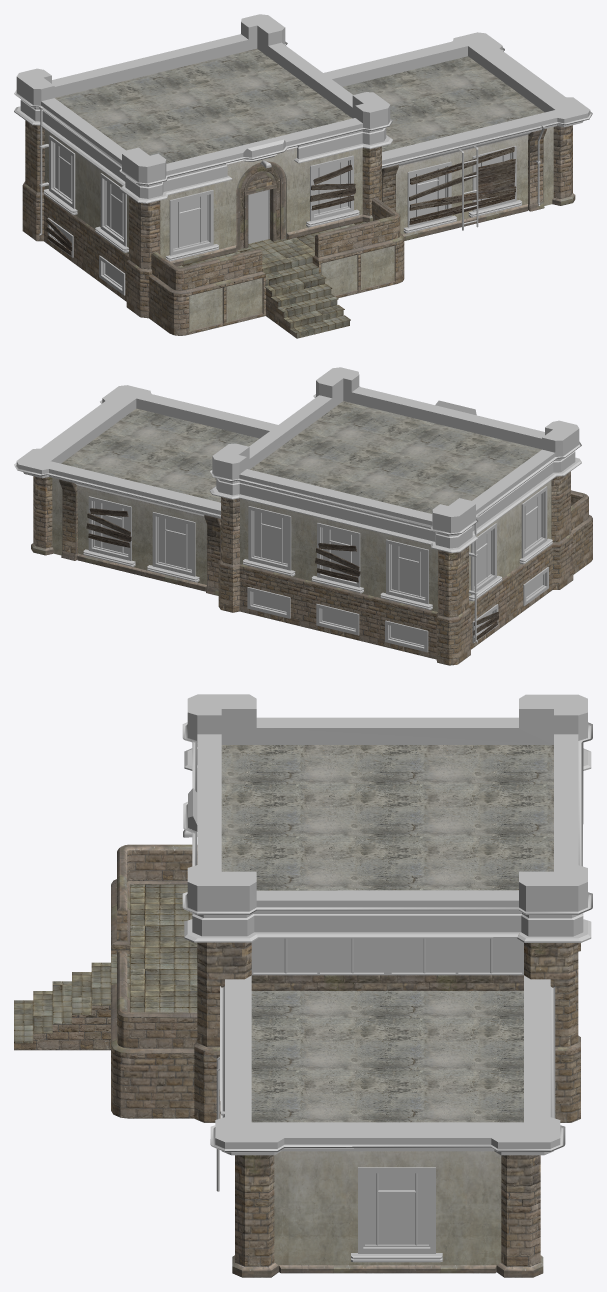
The model's file is Build8.fbx.
The picture shows the model from 3 angles, top to bottom: view 1: azimuth 30°, elevation 25°; view 2: azimuth 150°, elevation 25°; view 3: azimuth 270°, elevation 25°; orthographic projection. The views are drawn at different scales.
Parts seen in each view (by area): view 1: polySurface7; view 2: polySurface7; view 3: polySurface7.
Boxes of the visible parts, x1,y1,x2,y2 form: polySurface7: (14, 14, 592, 338); polySurface7: (14, 367, 592, 665); polySurface7: (14, 694, 592, 1277).
Size of the model in its own units: 23.37 by 7.38 by 16.14.
